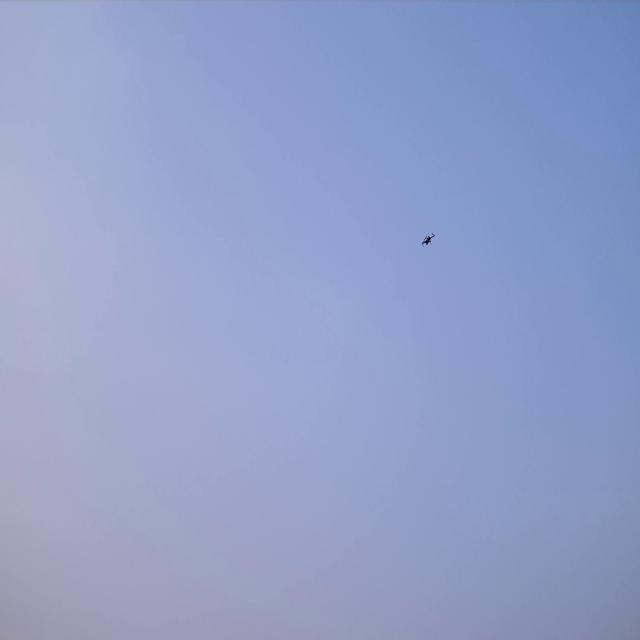UAV: (420, 233, 435, 247)
